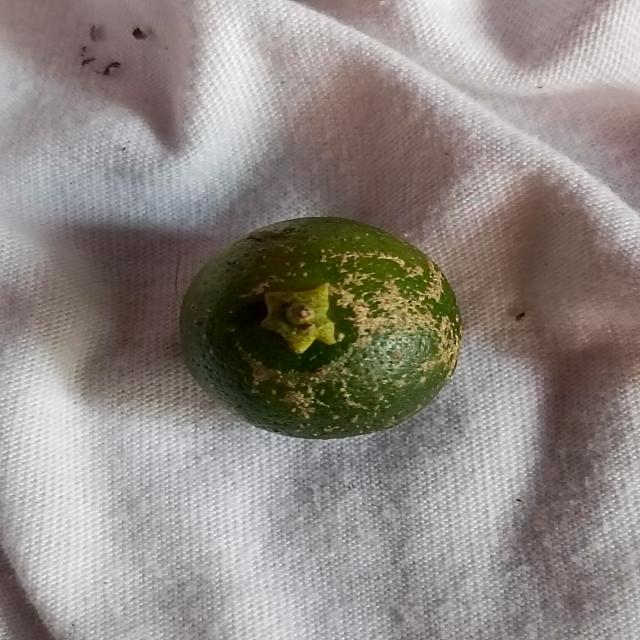scab: (176, 214, 474, 441)
